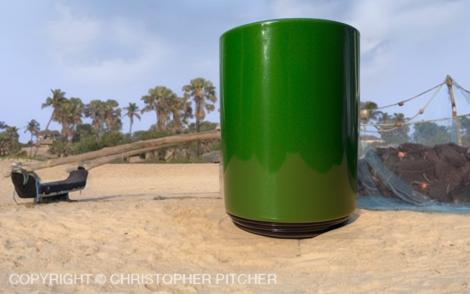pottedplant: (219, 18, 360, 238)
